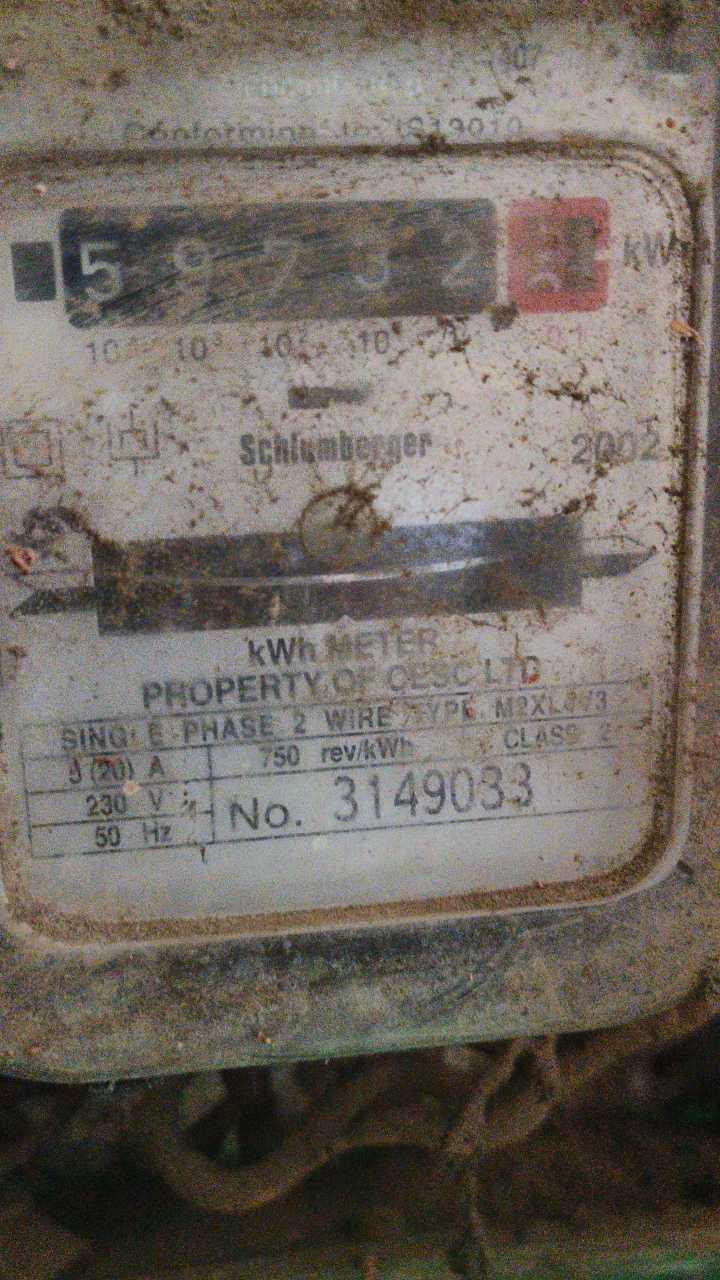meter_readings: (63, 210, 606, 306)
serial_number: (320, 766, 545, 822)
